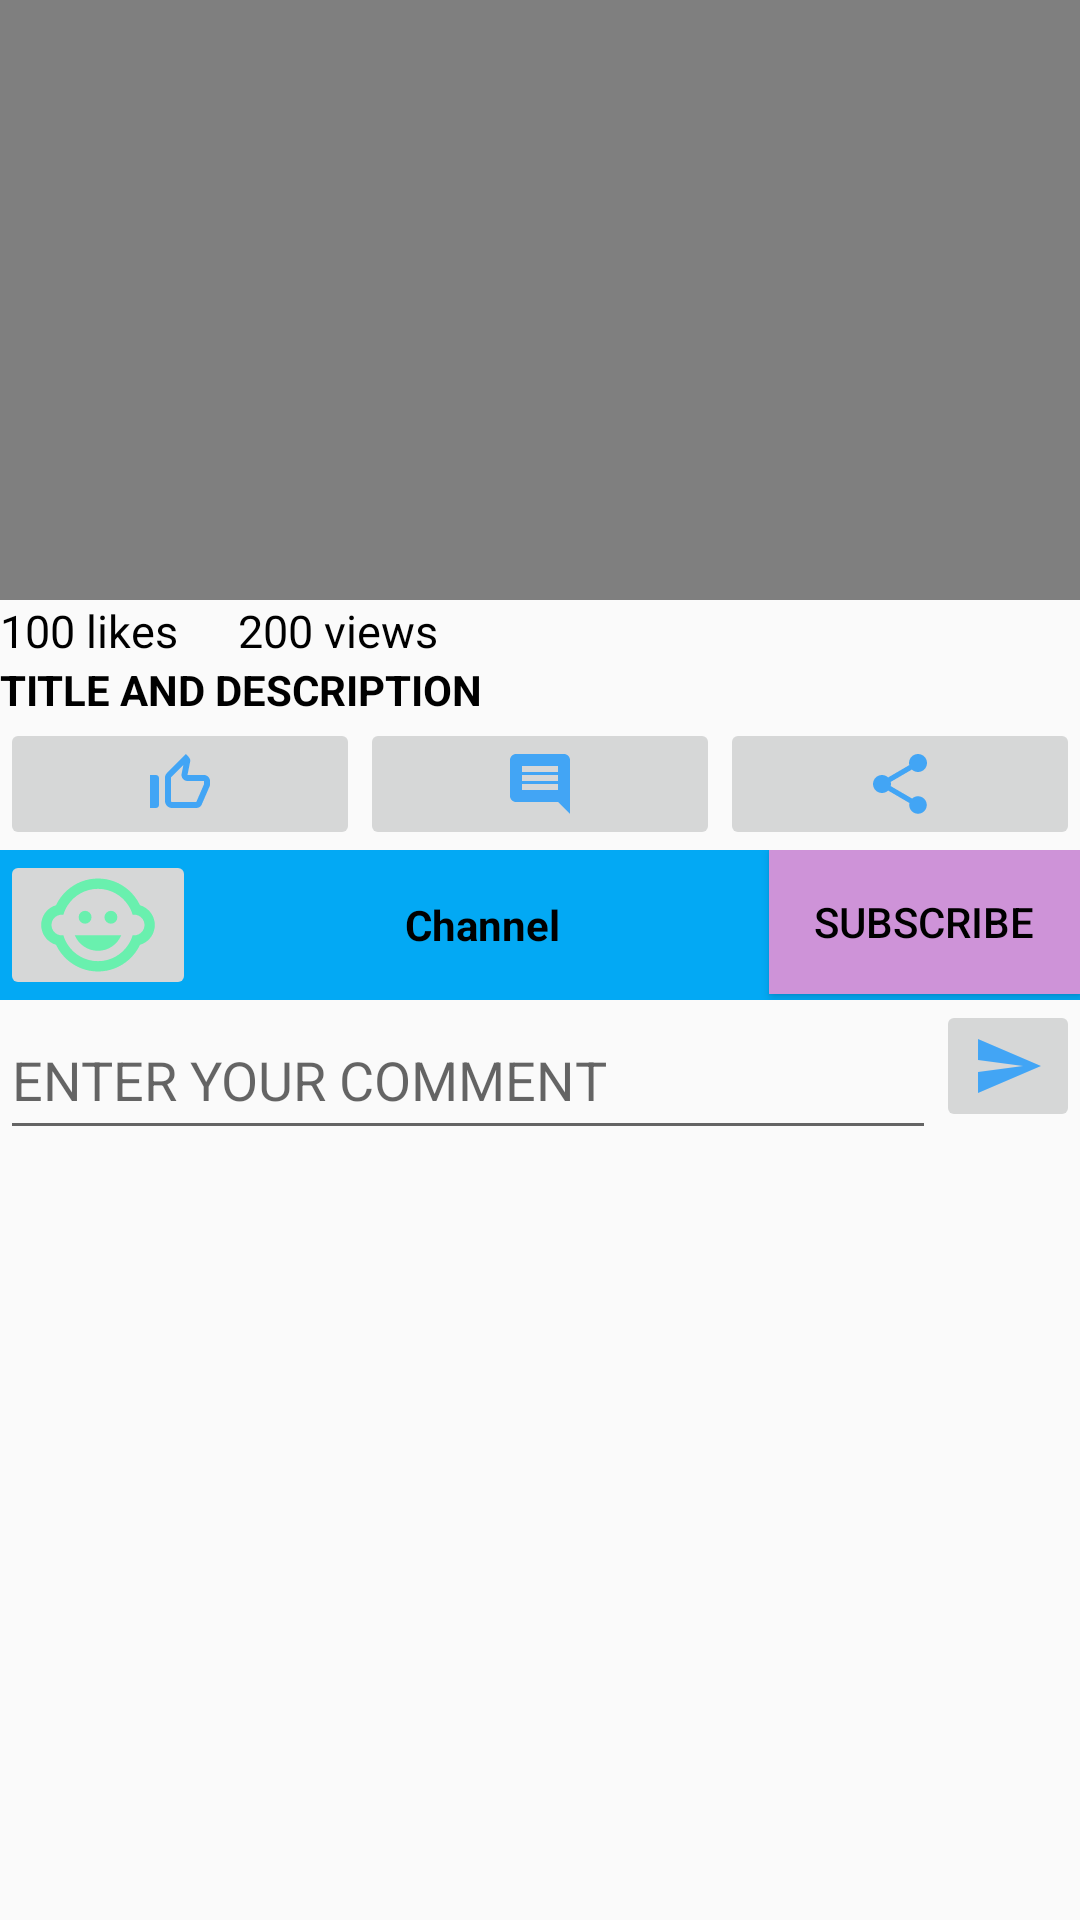

Screen size 1080 × 1920. Icon name, then its box in pixels as region(x1, y1, x2, y2):
send: region(948, 1018, 1068, 1114)
share: region(732, 736, 1068, 832)
thumb up trans: region(12, 736, 348, 832)
